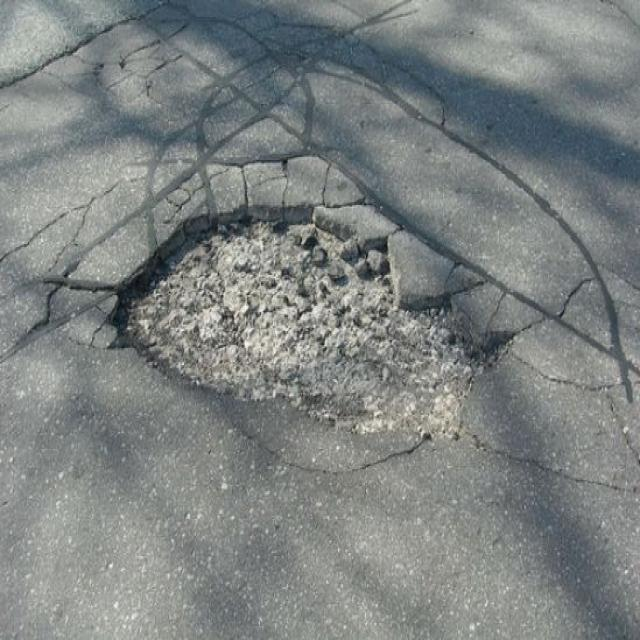pothole: (106, 199, 506, 447)
